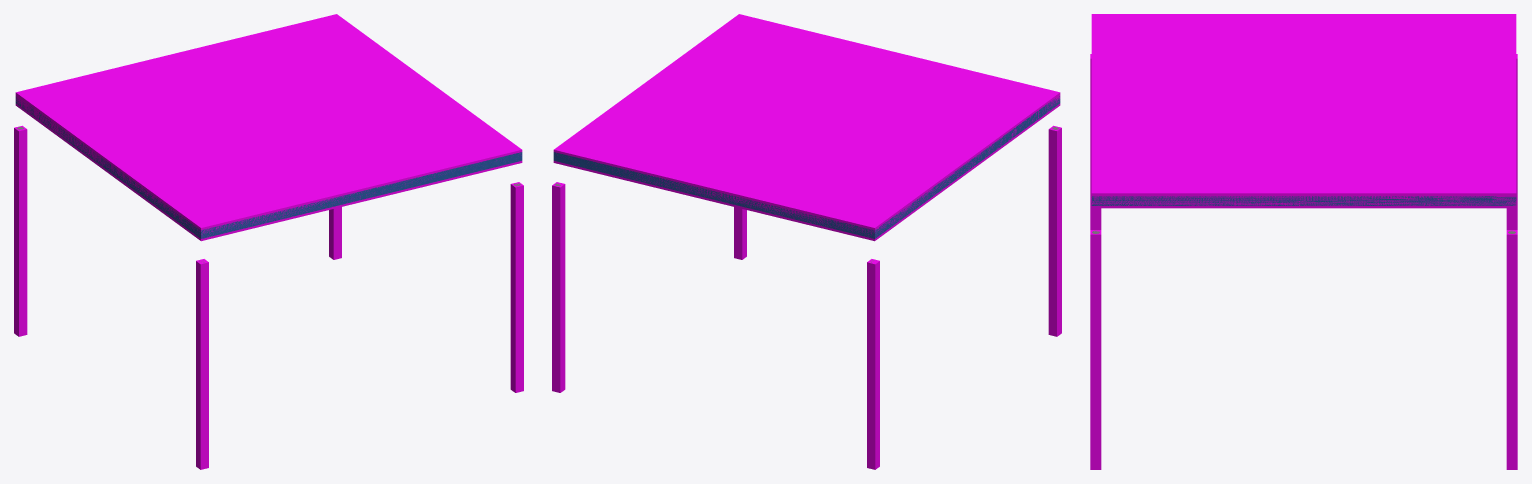
File: tent_blue_3x3.dae
The picture shows the model from 3 angles, left to right: view 1: azimuth 30°, elevation 25°; view 2: azimuth 150°, elevation 25°; view 3: azimuth 270°, elevation 25°; orthographic projection. The views are drawn at different scales.
Visible parts, largest first — view 1: Colmesh_roof-1, roof, Colmesh_pole1-1, Colmesh_pole3-1, Colmesh_pole0-1, Colmesh_pole2-1; view 2: Colmesh_roof-1, roof, Colmesh_pole2-1, Colmesh_pole0-1, Colmesh_pole3-1, Colmesh_pole1-1; view 3: Colmesh_roof-1, roof, Colmesh_pole2-1, Colmesh_pole1-1, Colmesh_pole0-1, Colmesh_pole3-1.
Part boxes in pixels (x1,y1,x2,y2): Colmesh_roof-1: (15,14,522,241); roof: (15,96,522,238); Colmesh_pole1-1: (510,182,523,392); Colmesh_pole3-1: (14,125,27,336); Colmesh_pole0-1: (196,259,208,469); Colmesh_pole2-1: (329,207,341,259); Colmesh_roof-1: (553,14,1060,241); roof: (553,96,1060,238); Colmesh_pole2-1: (552,182,565,392); Colmesh_pole0-1: (1048,125,1061,336); Colmesh_pole3-1: (867,259,879,469); Colmesh_pole1-1: (734,207,746,259); Colmesh_roof-1: (1091,14,1516,208); roof: (1091,196,1516,205); Colmesh_pole2-1: (1506,230,1517,469); Colmesh_pole1-1: (1090,230,1101,469); Colmesh_pole0-1: (1090,54,1101,229); Colmesh_pole3-1: (1506,54,1517,229).
Bounding box in the file's own units: 3.08 × 3.08 × 2.2.
3 materials, 1 textured.
